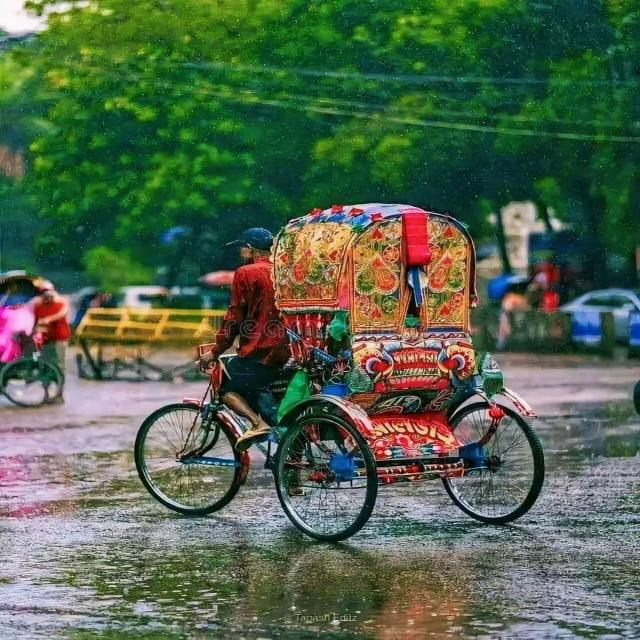Rickshaw: (79, 181, 563, 551)
